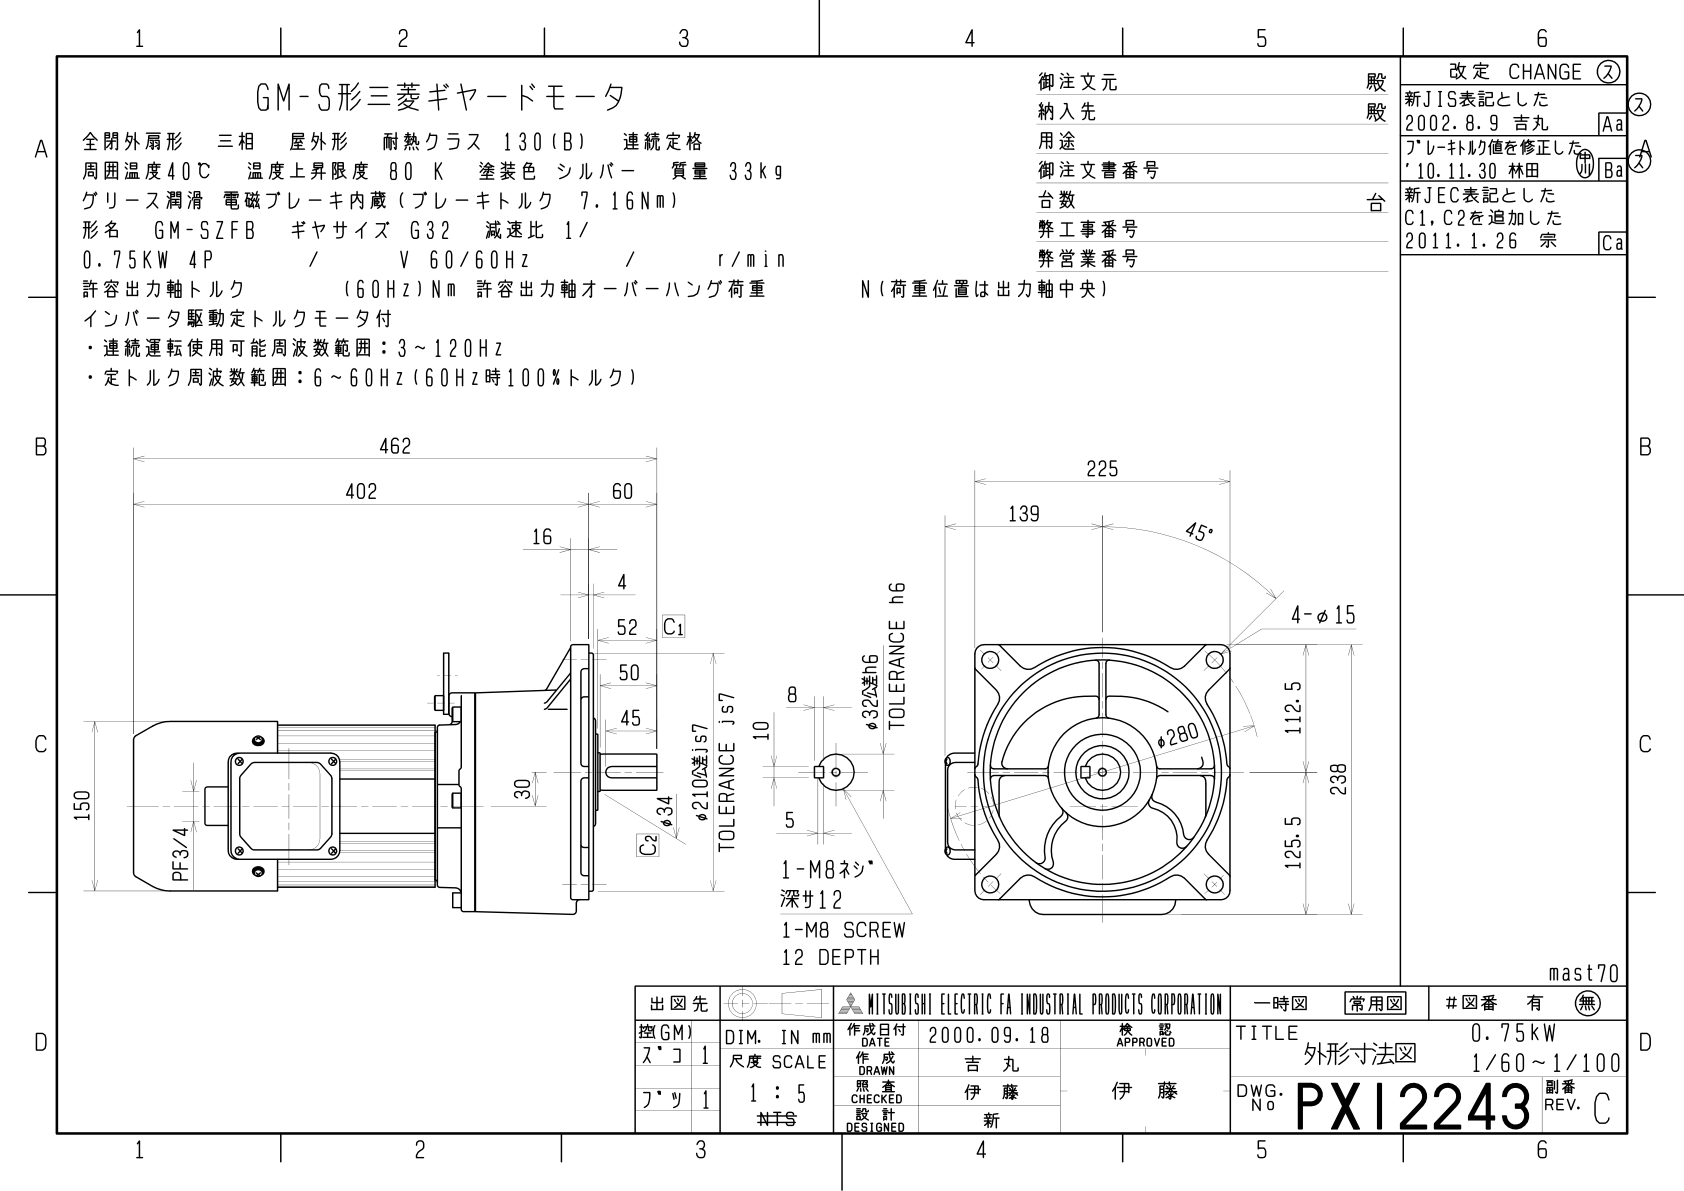GM_S_インバタ屋外＿三相_フランジ: (12, 5, 1684, 1191)
